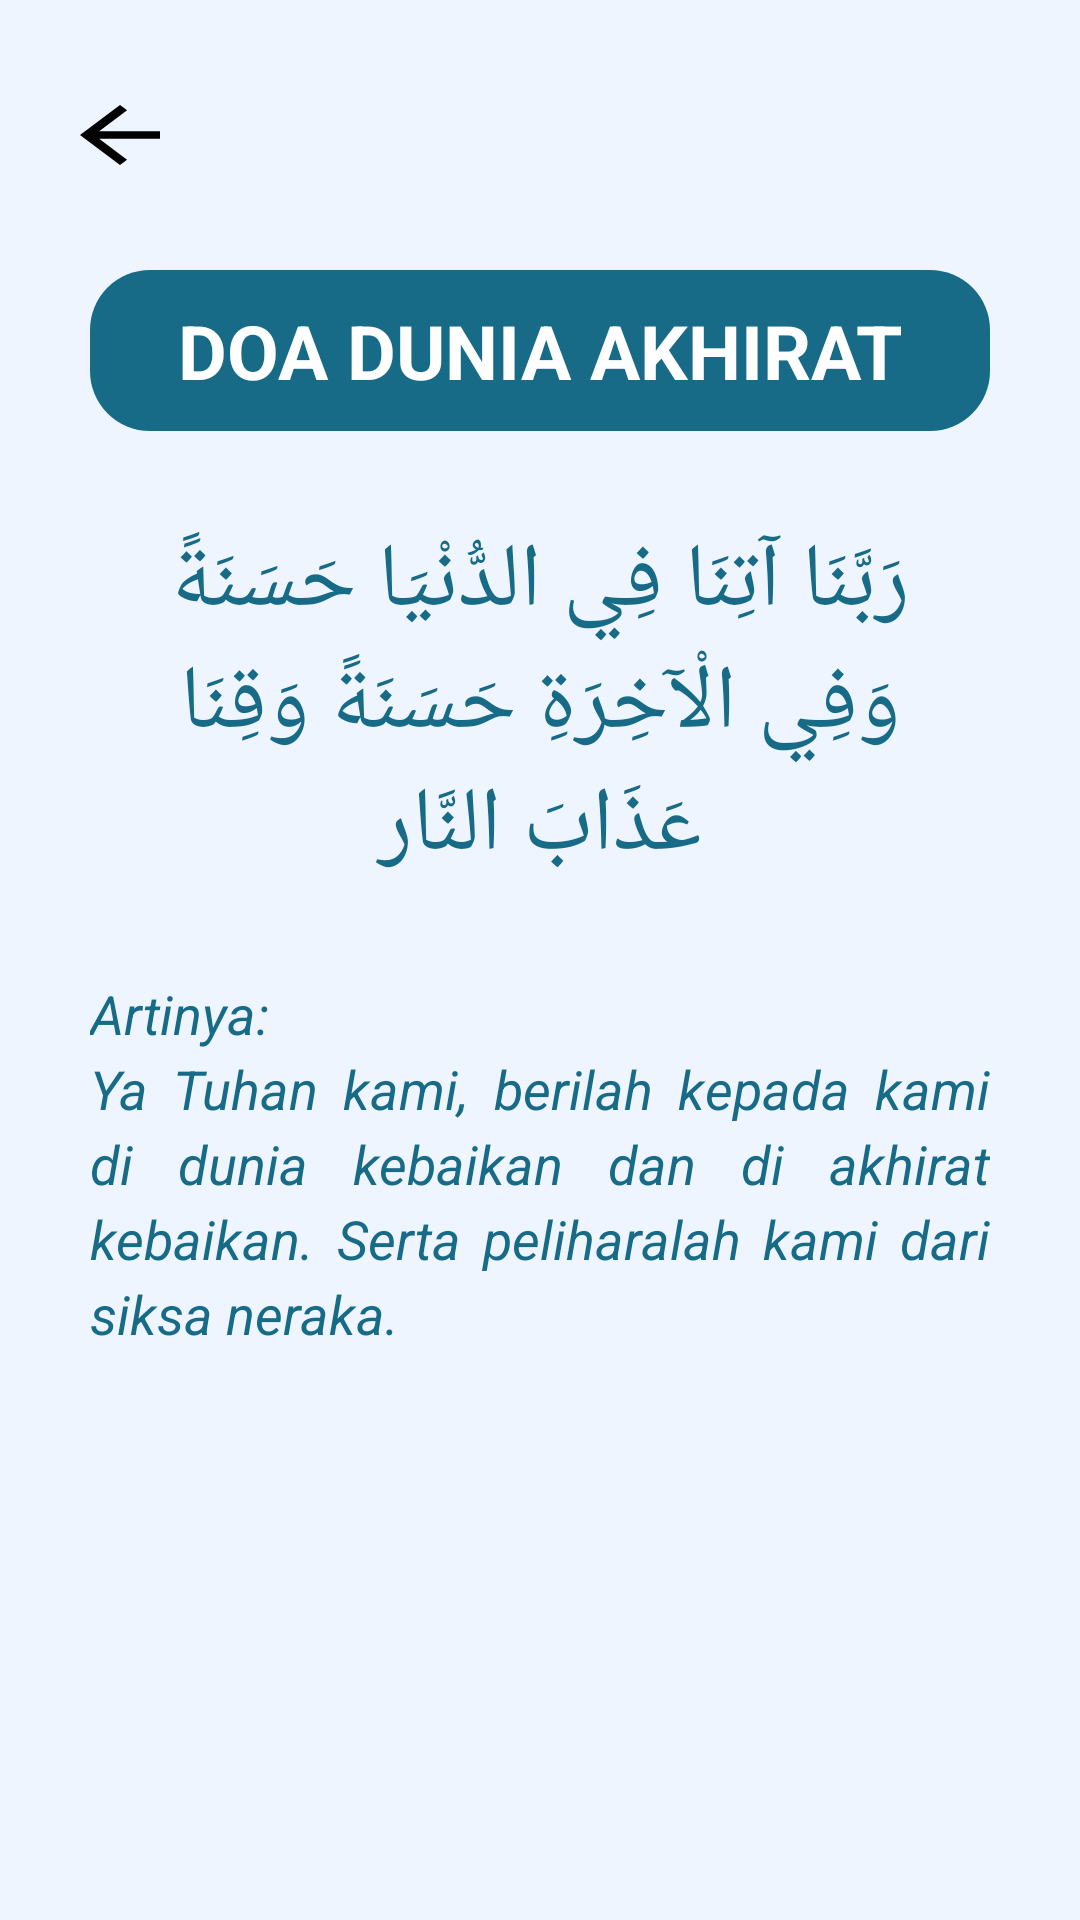

Screen size 1080×1920. Icon name, then its box in pixels as BBox(x1, y1, x2, y2):
arrow back: BBox(80, 105, 160, 165)
